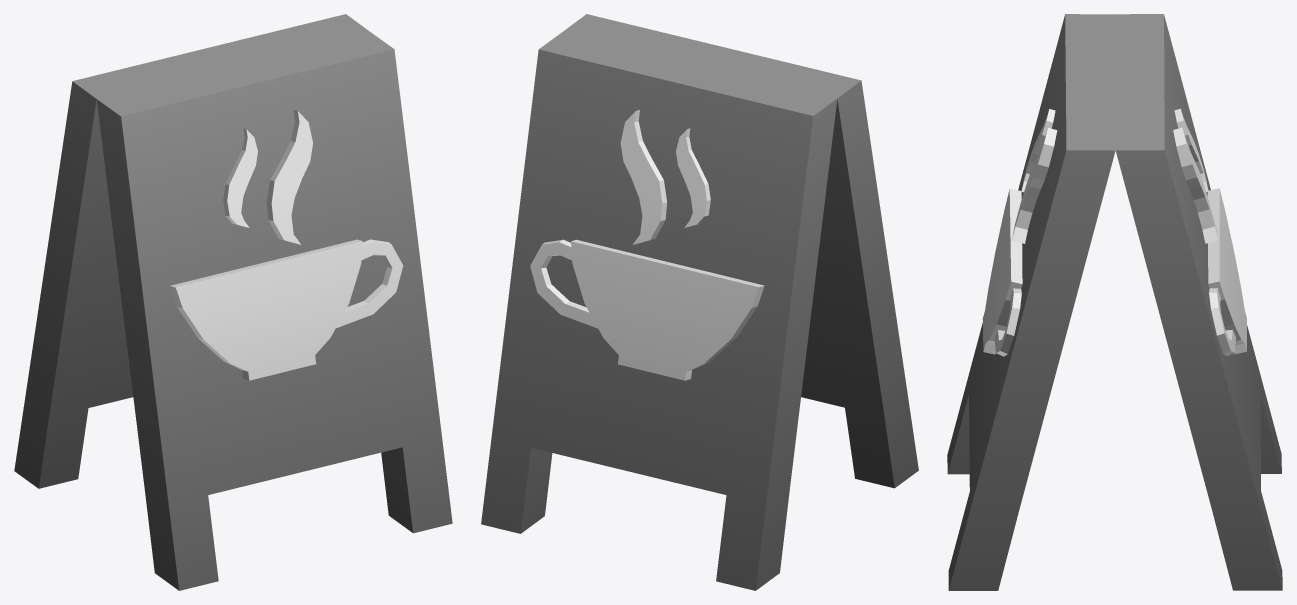
Rendered from cafe board.fbx.
3 views of the same model, side by side, from view 1: azimuth 30°, elevation 25°; view 2: azimuth 150°, elevation 25°; view 3: azimuth 270°, elevation 25° (orthographic).
Visible parts, largest first — view 1: cafe_board; view 2: cafe_board; view 3: cafe_board.
Part boxes in pixels (x1=…): cafe_board: x1=14, y1=14, x2=452, y2=590; cafe_board: x1=481, y1=14, x2=918, y2=590; cafe_board: x1=947, y1=14, x2=1282, y2=590.
Size of the model in its own units: 99.5 by 149 by 103.
Materials: 1 (1 with a texture image).
